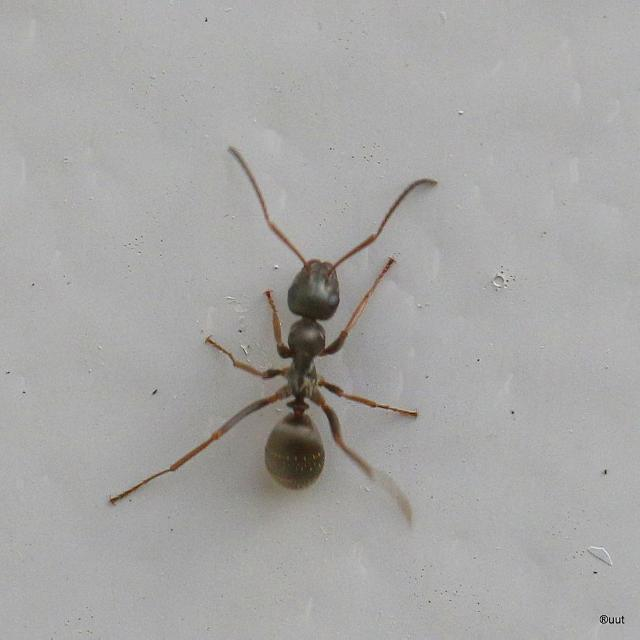Formica: (207, 184, 399, 484)
